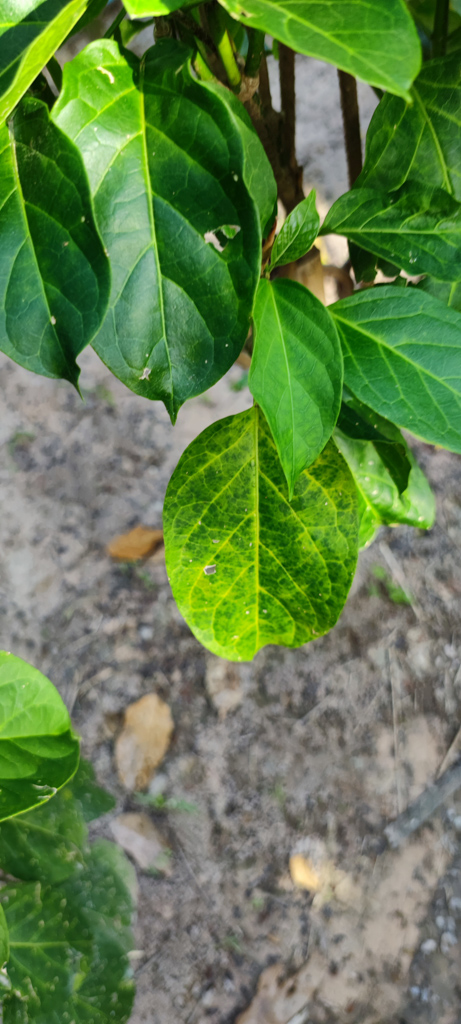Pepper yellow leaf: (164, 425, 350, 674)
